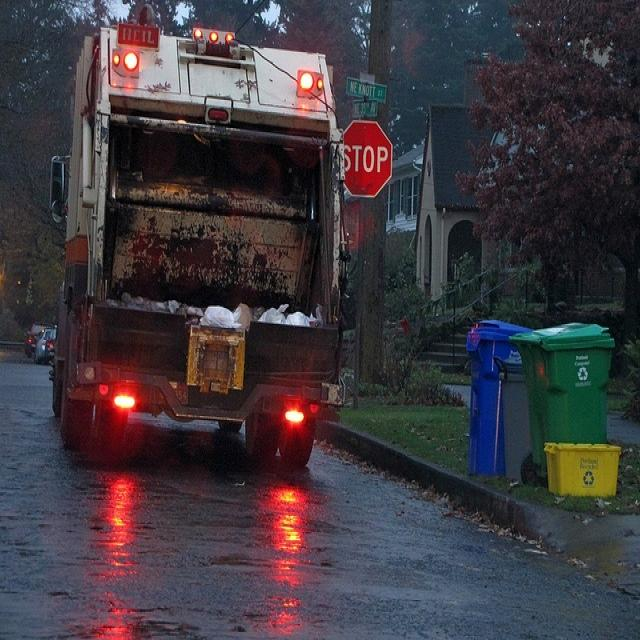ash bin: (462, 314, 538, 478), (537, 322, 611, 482), (510, 319, 582, 481)
car: (22, 318, 52, 354), (32, 325, 55, 364)
pole: (351, 199, 367, 408)
truck: (49, 19, 343, 461)
